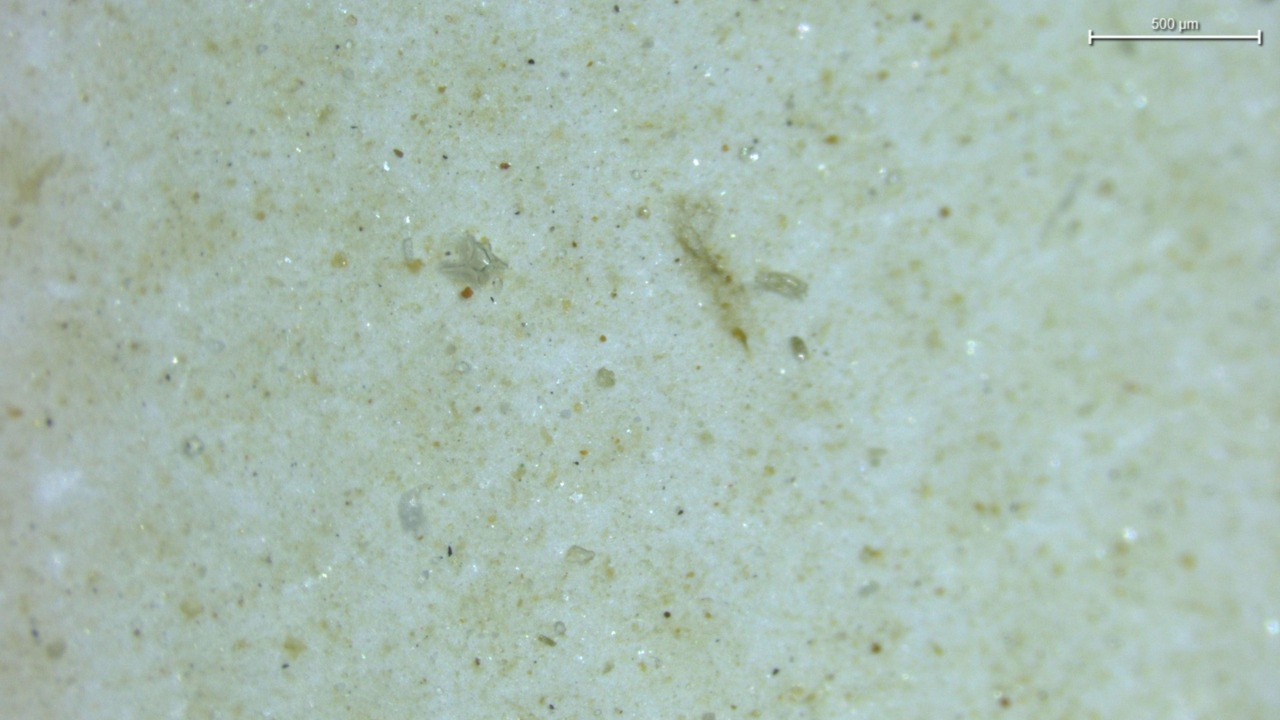microplastic_fragment: (439, 233, 508, 286), (399, 490, 425, 536), (564, 545, 595, 565)
